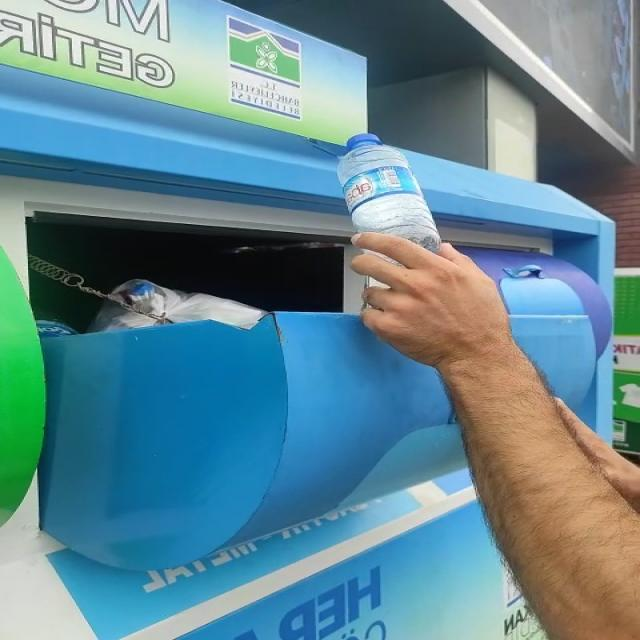Plastic: (337, 133, 440, 250)
